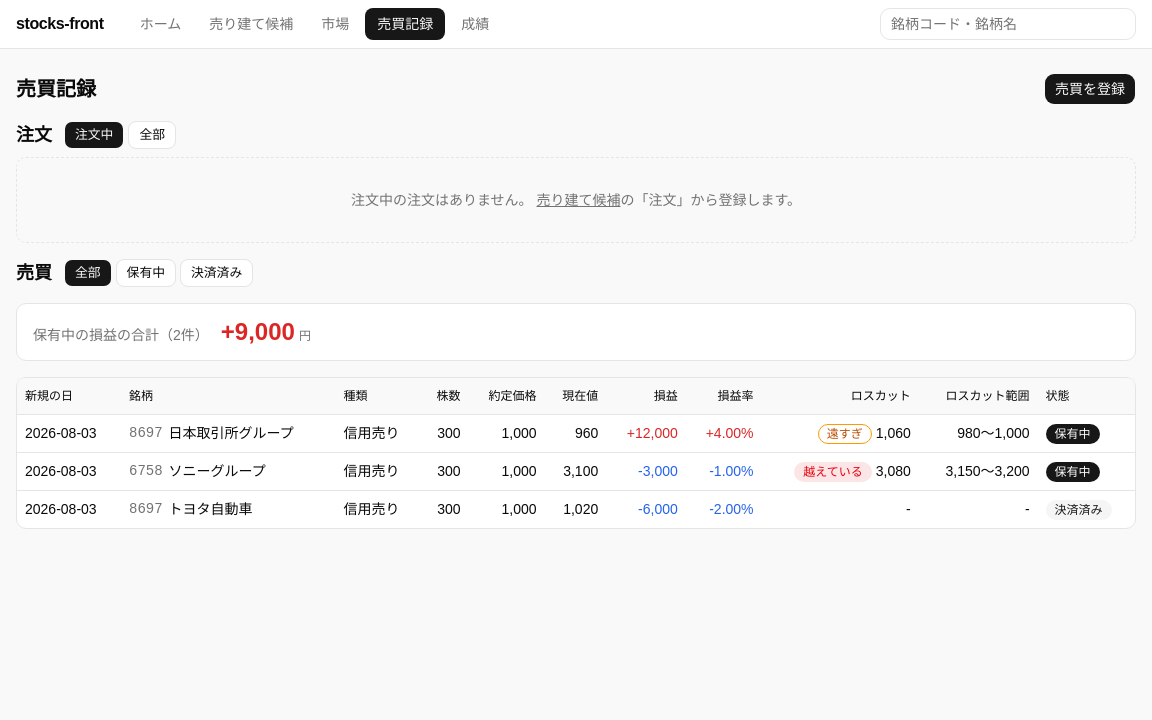
Test: 一覧は約定価格・現在値・今の損益が中心。保有中の損益の合計を出し、状態で絞れる
Expected: the text "+4.00%" is shown, [686,414,762,452]
Expected: the icon "遠すぎ" is shown, [818,424,872,444]
Click the button "決済済み" at [217, 273], box [180,259,253,287]
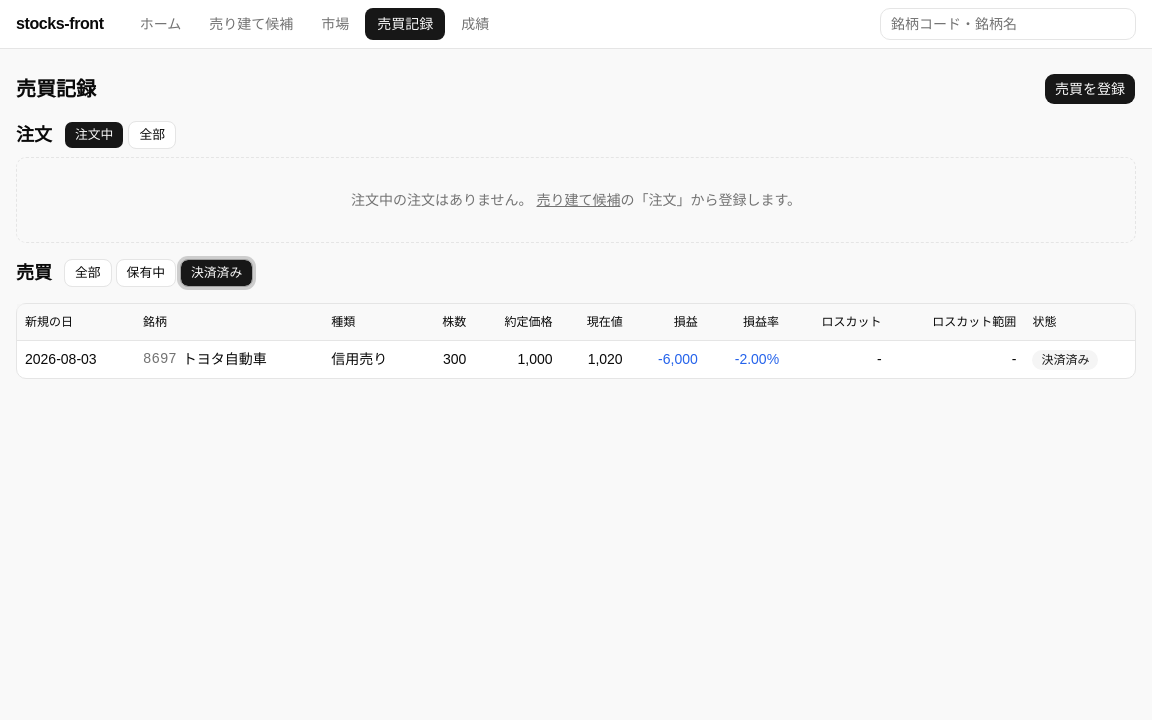
Expected: the link "トヨタ自動車" is shown, [183,349,267,369]
Now the link "日本取引所グループ" is gone
Now the text "保有中の損益の合計" is gone
